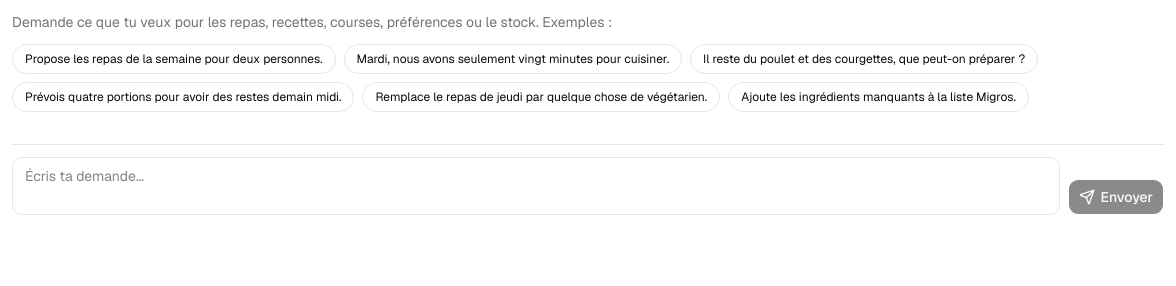
Scenario: Chat › shows a clear error and gives the text back when the server refuses
Type "Bonjour" into the text box named "Message pour l'assistant" at (536, 186), box [12,157,1060,215]
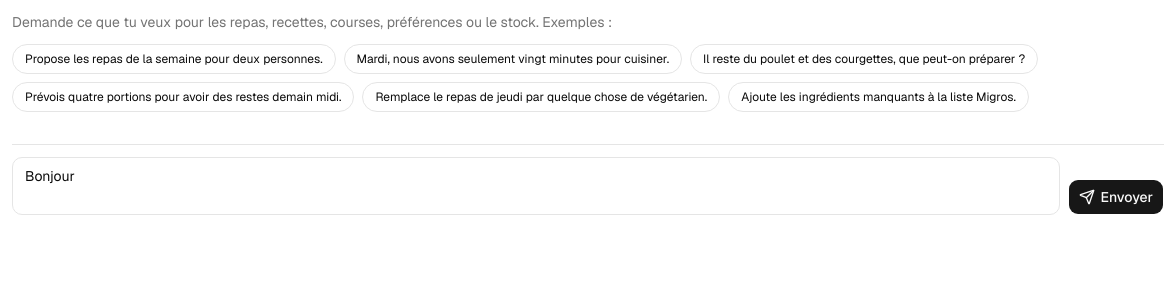
Click the button "Envoyer" at (1116, 197), box [1068,179,1164,215]
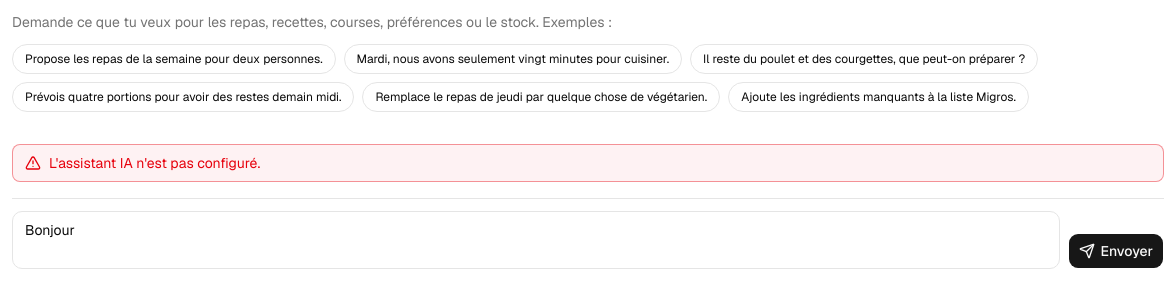
Expected: the message shows "pas configuré", [49,154,260,172]
